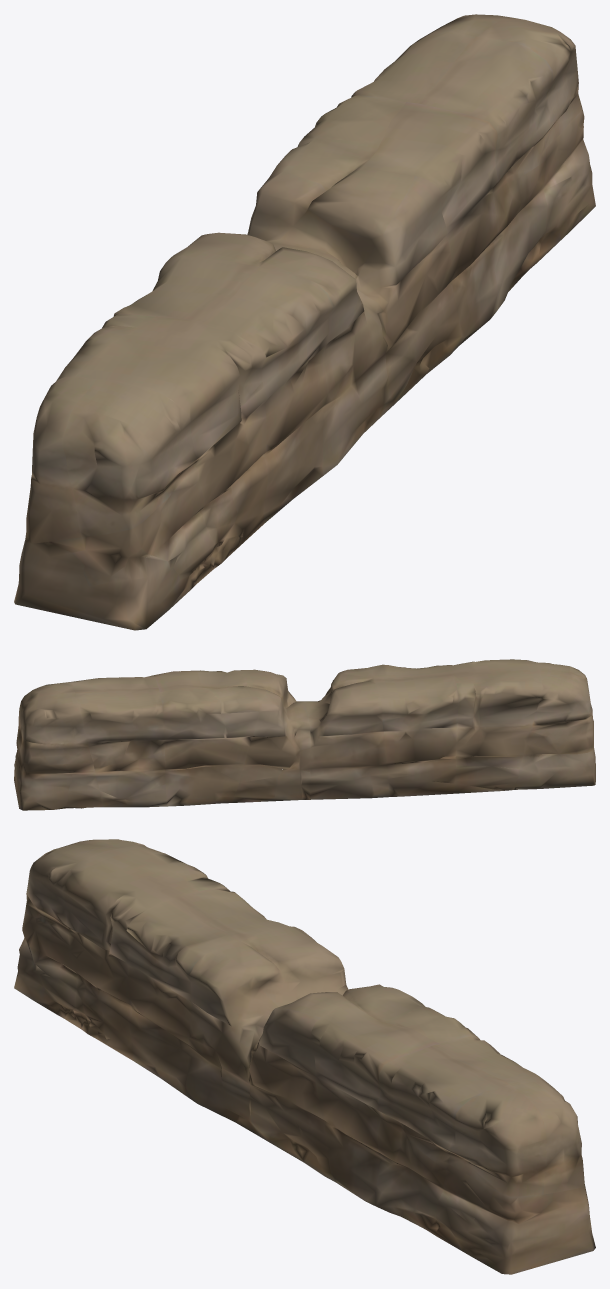
File: tugun_tosh.glb
3 renders of one model, top to bottom at view 1: azimuth 30°, elevation 25°; view 2: azimuth 150°, elevation 25°; view 3: azimuth 270°, elevation 25°, orthographic. The views are drawn at different scales.
Parts seen in each view (by area): view 1: tripo_node_d0f97954-db40-43ed-9859-68f555fc2354; view 2: tripo_node_d0f97954-db40-43ed-9859-68f555fc2354; view 3: tripo_node_d0f97954-db40-43ed-9859-68f555fc2354.
Boxes of the visible parts, box(x1,y1,x2,y2) form: tripo_node_d0f97954-db40-43ed-9859-68f555fc2354: box(14, 14, 595, 630); tripo_node_d0f97954-db40-43ed-9859-68f555fc2354: box(14, 659, 595, 810); tripo_node_d0f97954-db40-43ed-9859-68f555fc2354: box(14, 839, 595, 1274).
Size of the model in its own units: 0.9788 by 0.2188 by 0.768.
1 material, 1 textured.
